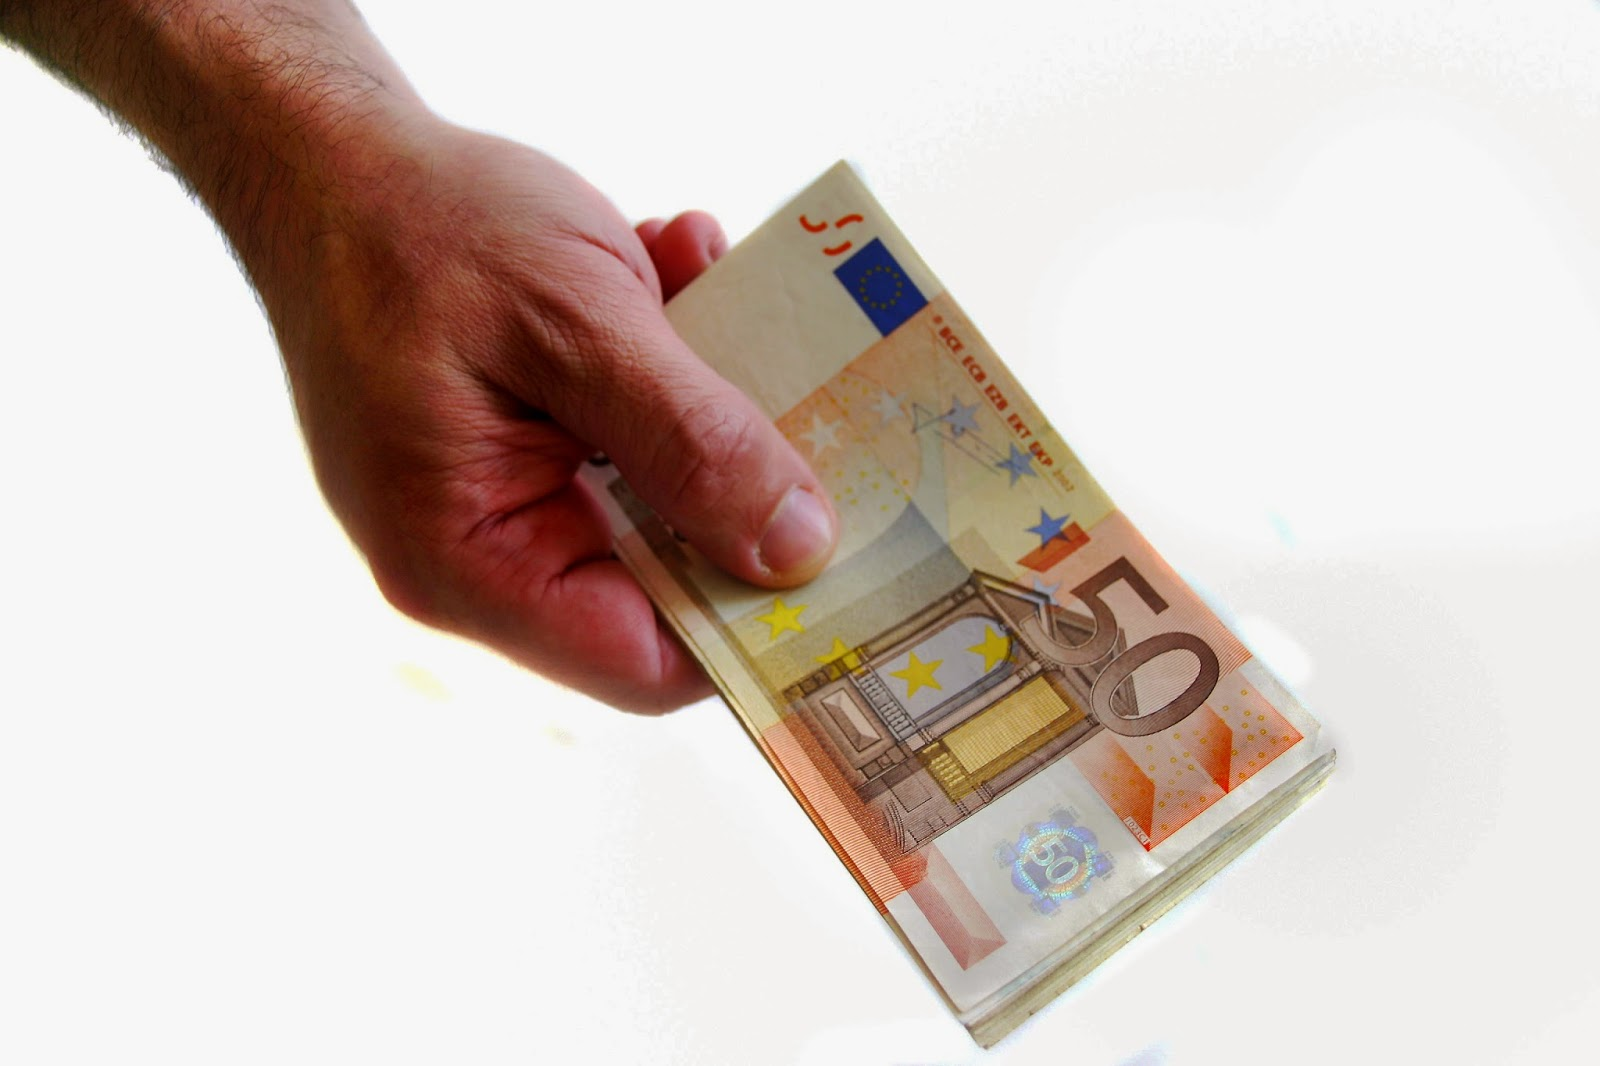billete: (573, 151, 1347, 1051)
